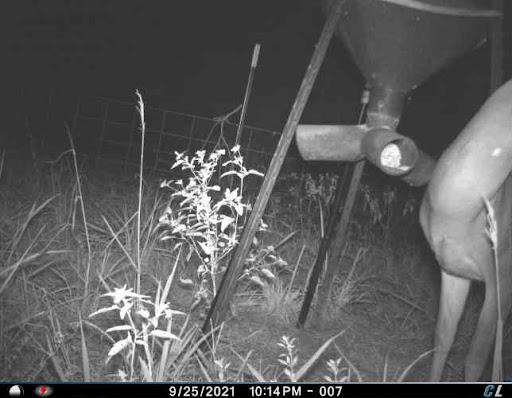Deer: (419, 63, 512, 381)
